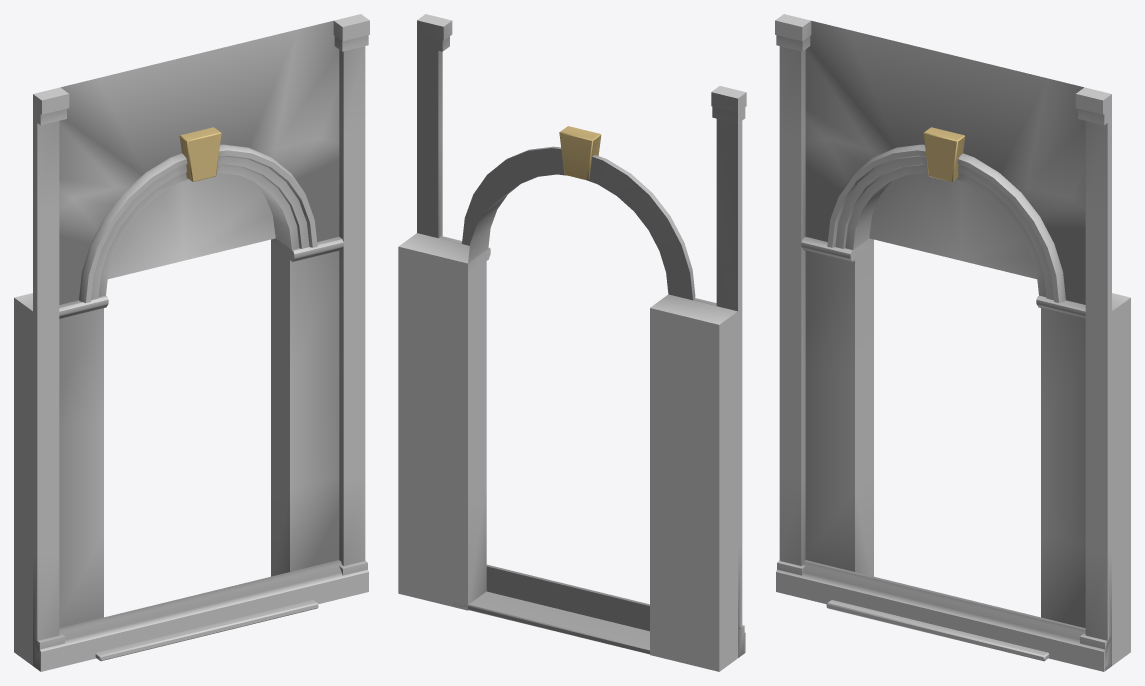
File: cella_door_open.glb
The picture shows the model from 3 angles, left to right: view 1: azimuth 30°, elevation 25°; view 2: azimuth 150°, elevation 25°; view 3: azimuth 330°, elevation 25°; orthographic projection. The views are drawn at different scales.
Parts seen in each view (by area): view 1: cella_door_open_CL_Stone, cella_door_open_CL_Glass, cella_door_open_CL_Gilt; view 2: cella_door_open_CL_Stone, cella_door_open_CL_Gilt; view 3: cella_door_open_CL_Stone, cella_door_open_CL_Glass, cella_door_open_CL_Gilt.
Boxes of the visible parts, left/top/right/bottom form: cella_door_open_CL_Stone: left=14, top=14, right=369, bottom=671; cella_door_open_CL_Glass: left=107, top=173, right=275, bottom=279; cella_door_open_CL_Gilt: left=179, top=127, right=221, bottom=181; cella_door_open_CL_Stone: left=398, top=14, right=746, bottom=671; cella_door_open_CL_Gilt: left=559, top=126, right=601, bottom=180; cella_door_open_CL_Stone: left=775, top=14, right=1130, bottom=671; cella_door_open_CL_Glass: left=869, top=173, right=1037, bottom=279; cella_door_open_CL_Gilt: left=923, top=127, right=965, bottom=181.
Bounding box in the file's own units: 6 × 10 × 1.
